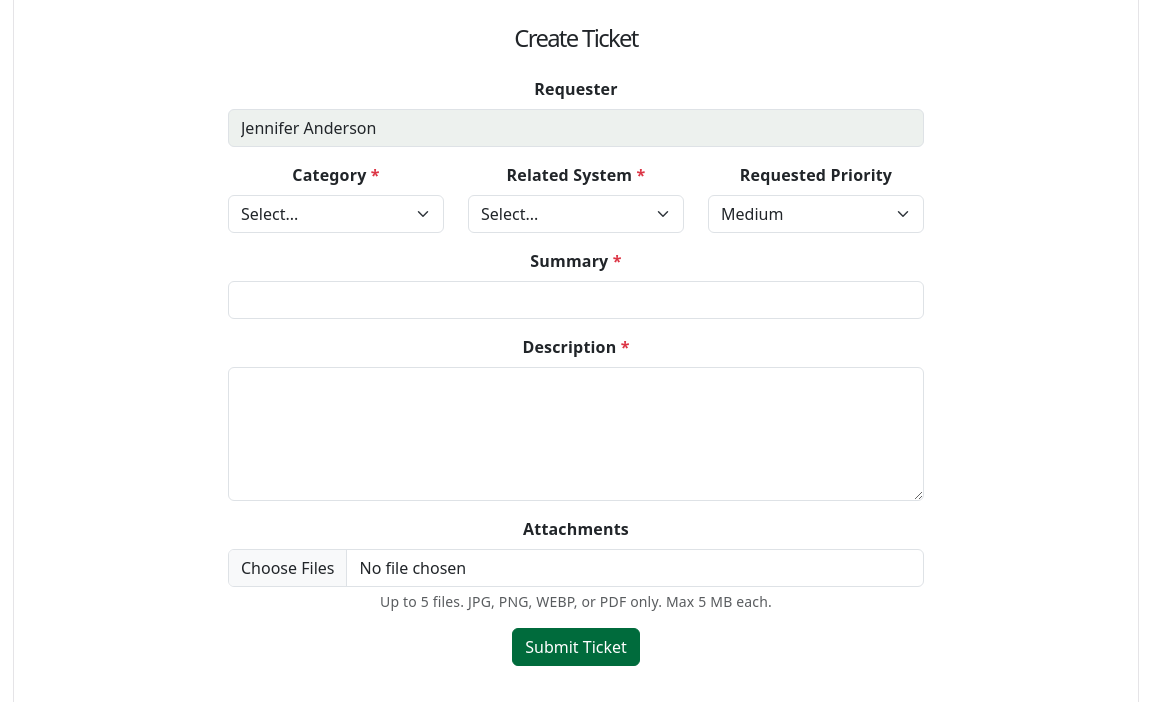
Test: CreateTicket › shows a safe error message and preserves field values on API failure
expect the heading "Create Ticket" is shown: met, box x1=514 y1=22 x2=638 y2=54
Select "Hardware" in the dropdown labelled "Category *" at x=336, y=214, box x1=228 y1=195 x2=444 y2=233
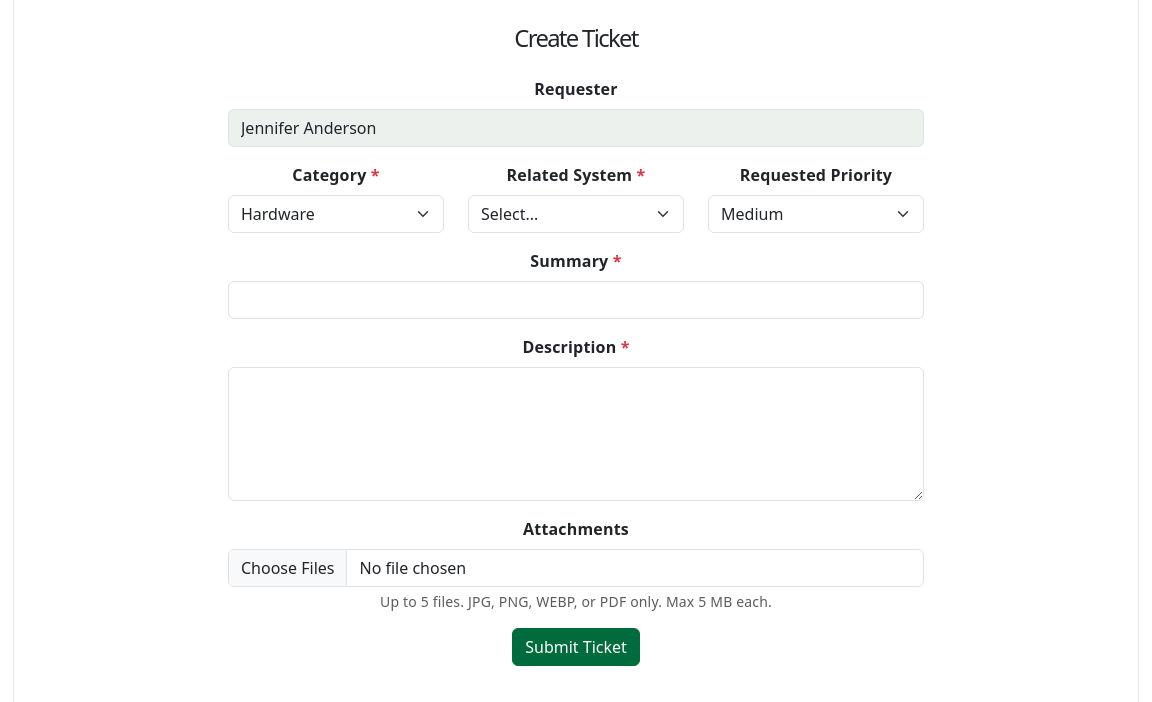
Select "VPN" in the dropdown labelled "Related System *" at x=576, y=214, box x1=468 y1=195 x2=684 y2=233
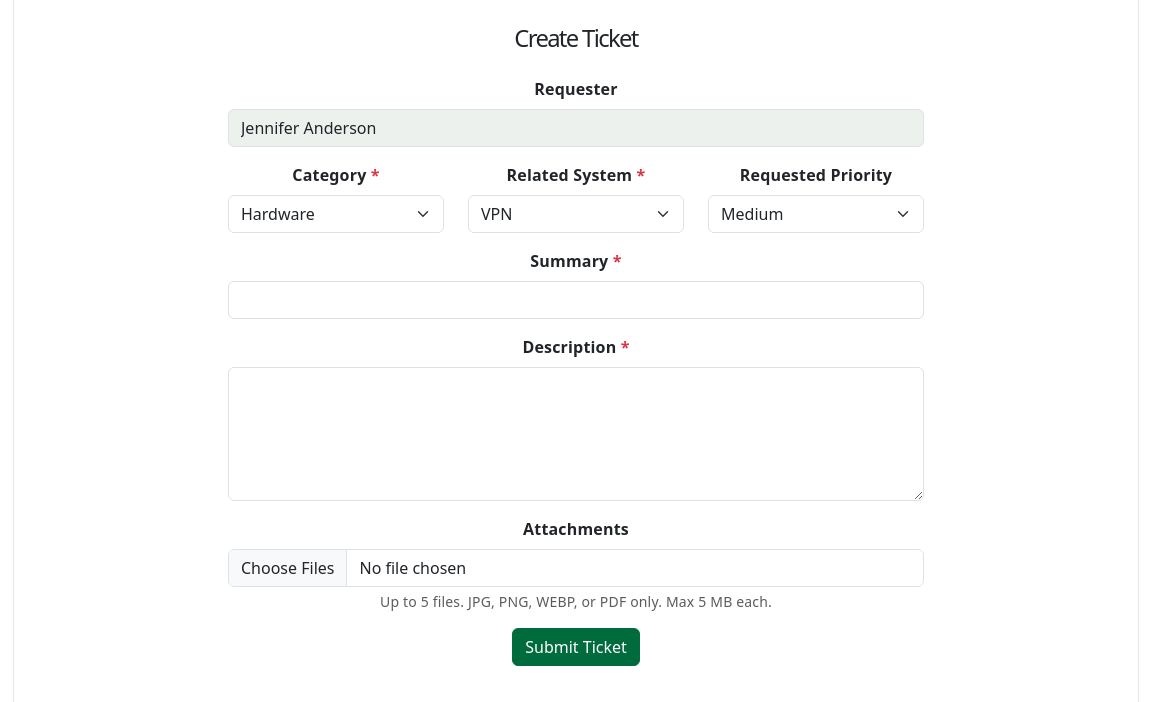
Type "Valid summary text" into the field labelled "Summary *" at x=576, y=300, box x1=228 y1=281 x2=924 y2=319
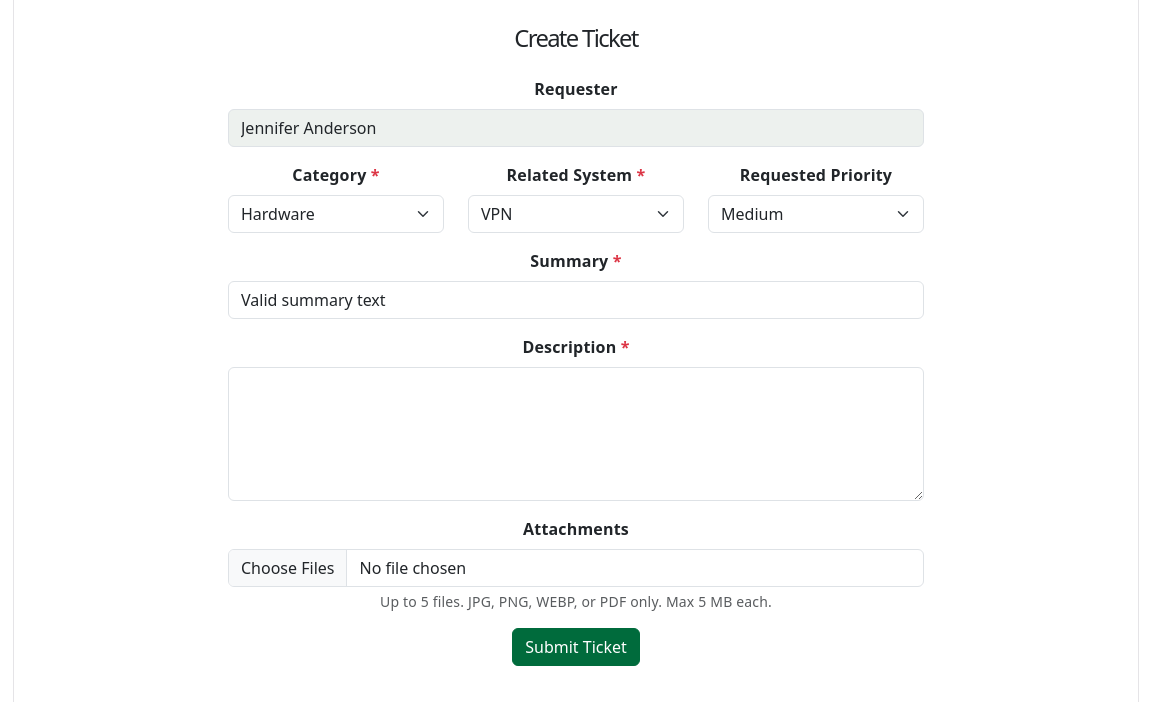
Type "This is a valid ticket description." into the text box labelled "Description *" at x=576, y=434, box x1=228 y1=367 x2=924 y2=501
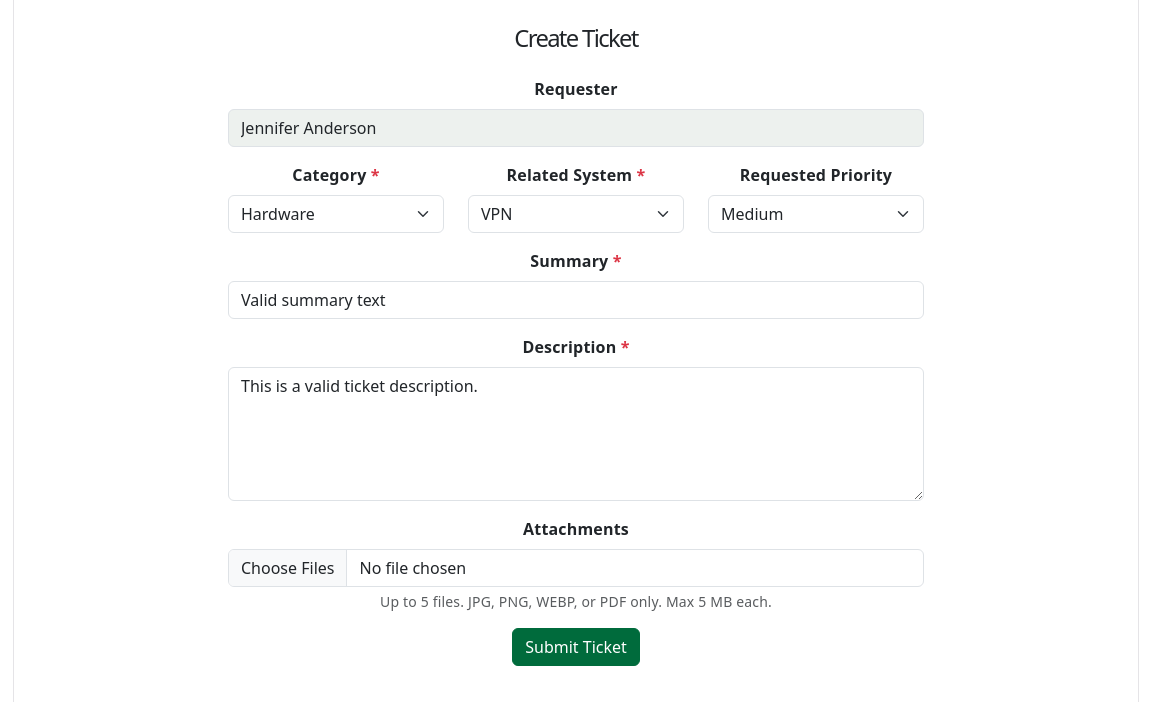
Click the button "Submit Ticket" at x=576, y=647, box x1=512 y1=628 x2=640 y2=666
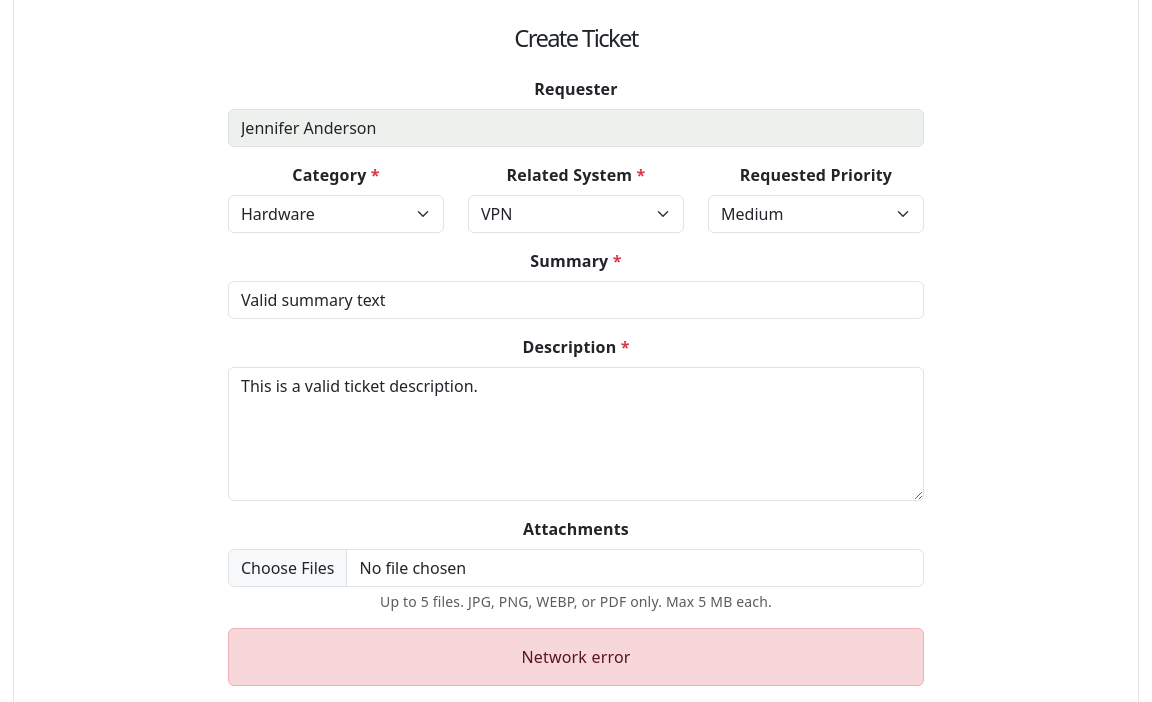
expect the text "Network error" is shown: met, box x1=228 y1=628 x2=924 y2=686
